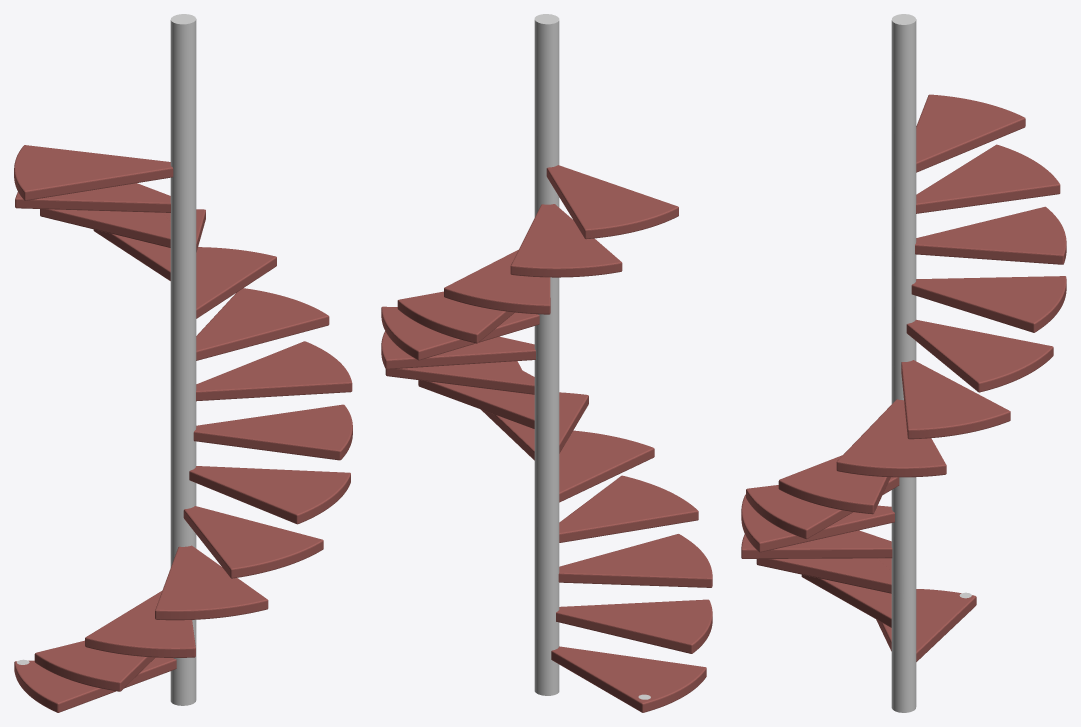
File: EscapeTheCircus_Morfologia3D_Escalera.fbx
3 views of the same model, side by side, from view 1: azimuth 30°, elevation 25°; view 2: azimuth 150°, elevation 25°; view 3: azimuth 270°, elevation 25° (orthographic). The views are drawn at different scales.
Parts seen in each view (by area): view 1: 14327_Spiral_Stairs-Cherry_v1_l1; view 2: 14327_Spiral_Stairs-Cherry_v1_l1; view 3: 14327_Spiral_Stairs-Cherry_v1_l1.
Boxes of the visible parts, x1,y1,x2,y2 form: 14327_Spiral_Stairs-Cherry_v1_l1: (14,14,352,712); 14327_Spiral_Stairs-Cherry_v1_l1: (381,14,712,712); 14327_Spiral_Stairs-Cherry_v1_l1: (741,14,1066,712).
Bounding box in the file's own units: 814 × 1788 × 766.
